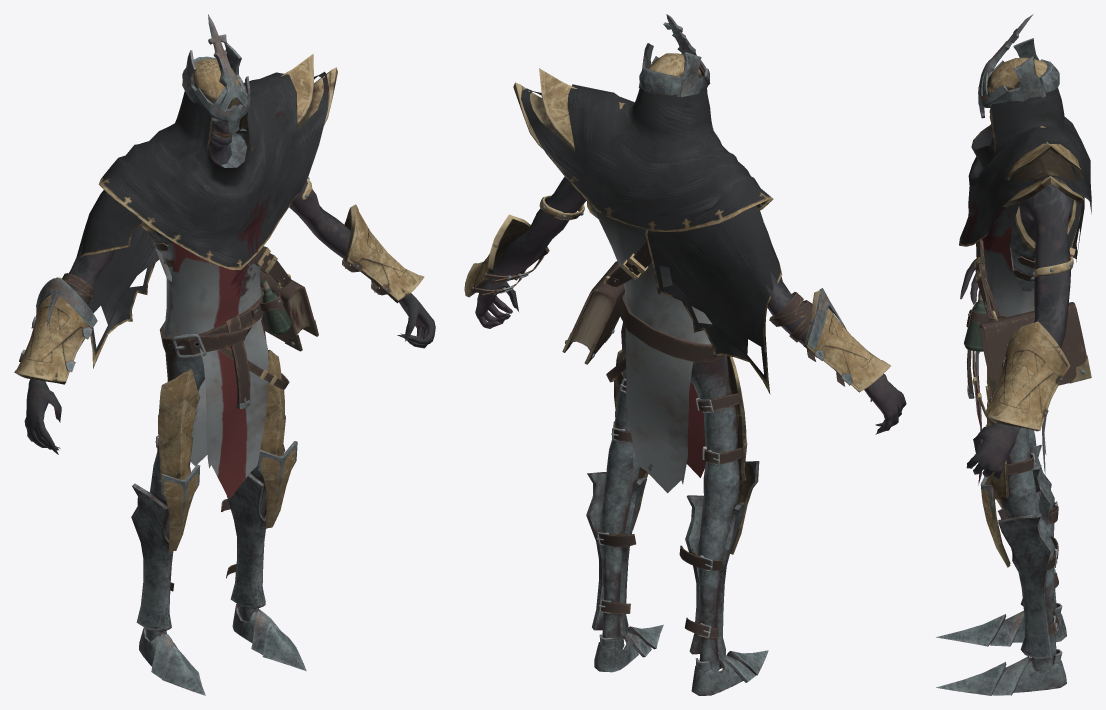
File: Character.fbx
3 views of the same model, side by side, from view 1: azimuth 30°, elevation 25°; view 2: azimuth 150°, elevation 25°; view 3: azimuth 270°, elevation 25° (orthographic). The views are drawn at different scales.
Parts seen in each view (by area): view 1: Skull10_low.001; view 2: Skull10_low.001; view 3: Skull10_low.001.
Part boxes in pixels (box(x1,y1,x2,y2)): Skull10_low.001: box(14, 14, 435, 695); Skull10_low.001: box(464, 14, 906, 695); Skull10_low.001: box(936, 14, 1091, 695).
Size of the model in its own units: 34580 by 51982 by 11371.
